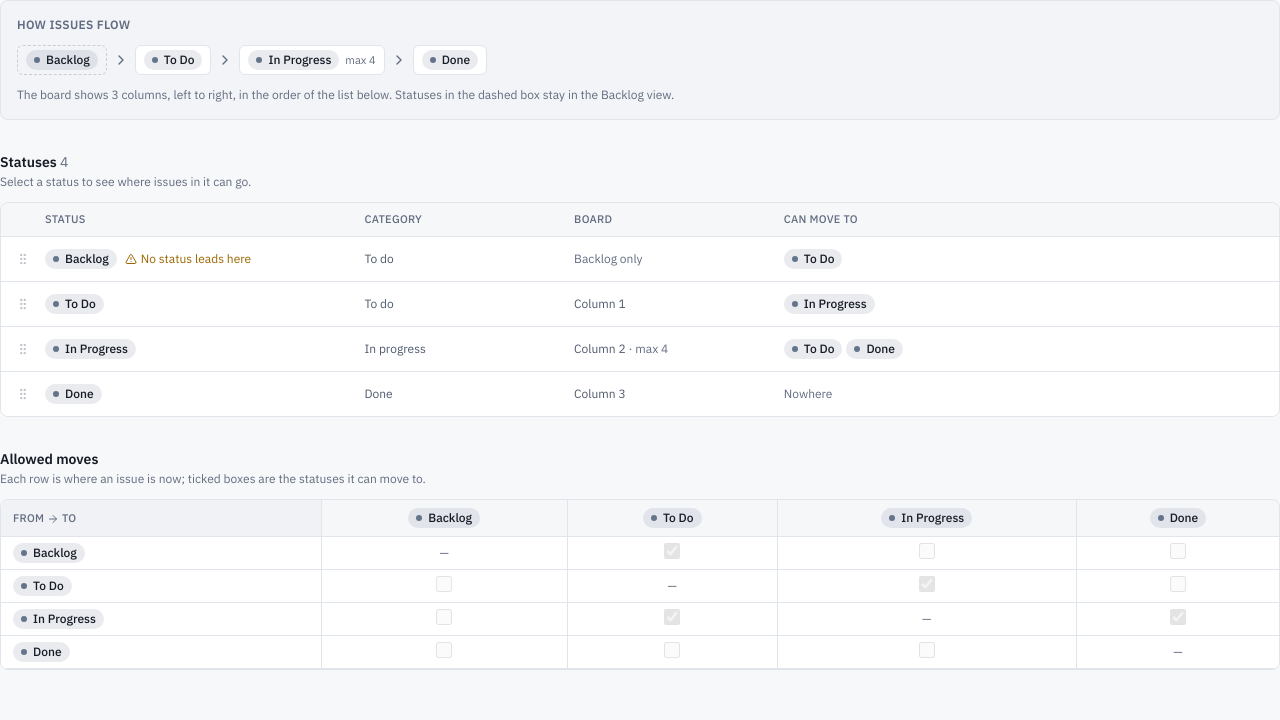
Test: workflow settings › shows the panel read-only to people who can't manage the project
Expected: the checkbox named "Move from To Do to In Progress" is disabled, [919,576,935,592]
What coordinates should you click on to do the following:
click the button with aria-label "View Done"
I would click on:
 (73, 394)
Its box is [45,383,102,404].
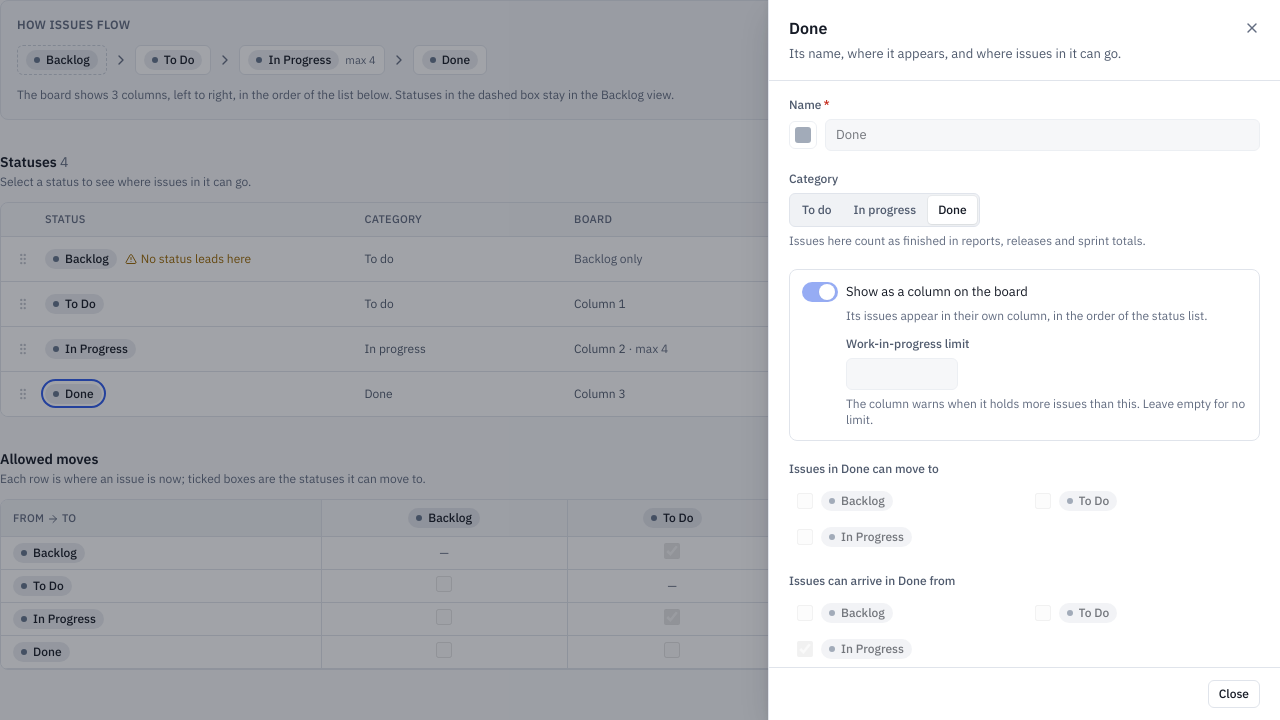
Expected: the field labelled "Name*" is disabled, [825,118,1260,150]
